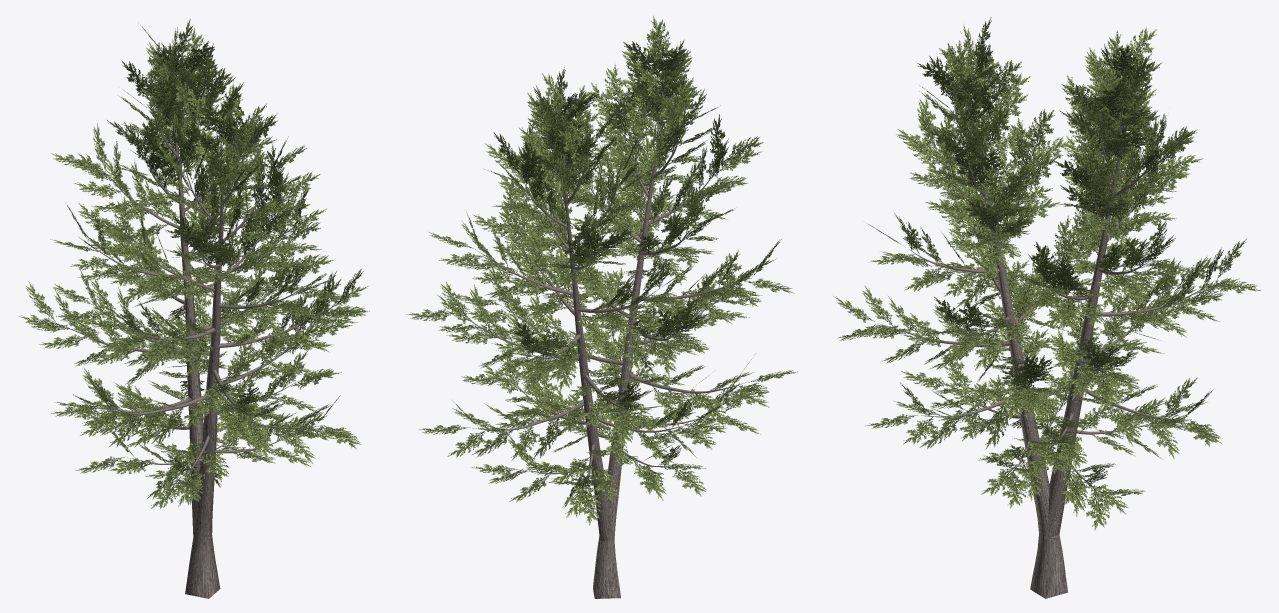
The model's file is 590g-game-tree1.fbx.
3 views of the same model, side by side, from view 1: azimuth 30°, elevation 25°; view 2: azimuth 150°, elevation 25°; view 3: azimuth 270°, elevation 25° (orthographic). The views are drawn at different scales.
Parts seen in each view (by area): view 1: leaves, tree; view 2: leaves, tree; view 3: leaves, tree.
Part boxes in pixels (x1=…): leaves: x1=19, y1=18, x2=369, y2=508; tree: x1=61, y1=77, x2=334, y2=598; leaves: x1=406, y1=15, x2=798, y2=525; tree: x1=461, y1=71, x2=750, y2=598; leaves: x1=833, y1=17, x2=1261, y2=530; tree: x1=877, y1=63, x2=1213, y2=598.
Size of the model in its own units: 987 by 1568 by 1090.
